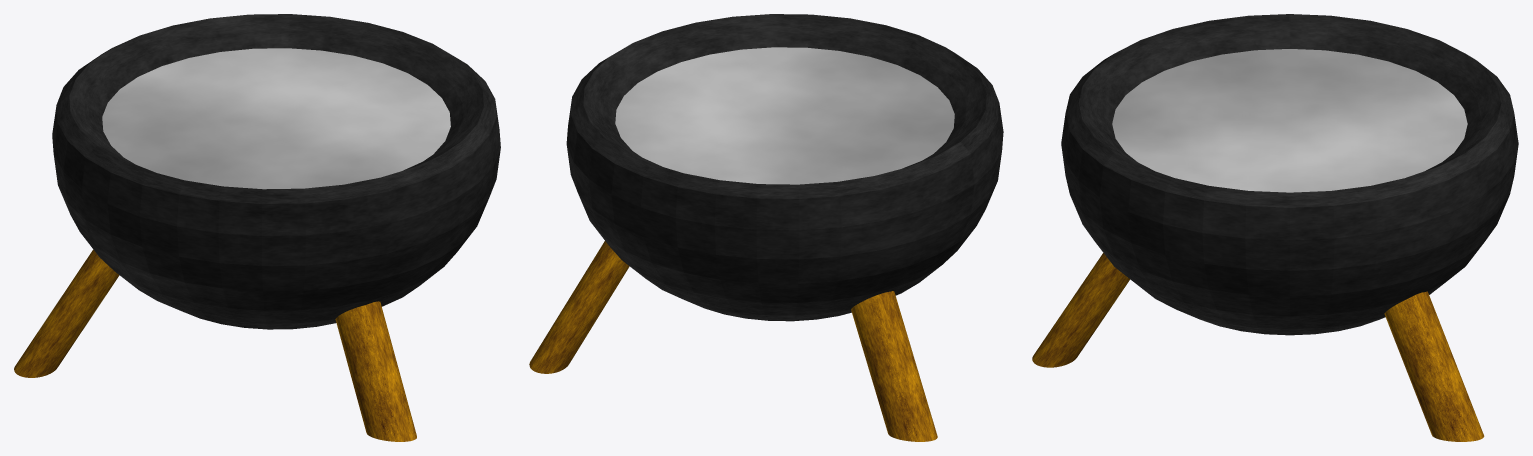
Rendered from BaseCauldronFBX.fbx.
3 renders of one model, left to right at view 1: azimuth 30°, elevation 25°; view 2: azimuth 150°, elevation 25°; view 3: azimuth 270°, elevation 25°, orthographic. The views are drawn at different scales.
Parts seen in each view (by area): view 1: Cauldron, Liquid, Leg2, Leg1; view 2: Cauldron, Liquid, Leg1, Leg3; view 3: Cauldron, Liquid, Leg3, Leg2.
Part boxes in pixels (bbox=[...]): Cauldron: bbox=[52, 14, 500, 329]; Liquid: bbox=[102, 48, 450, 189]; Leg2: bbox=[335, 301, 416, 441]; Leg1: bbox=[14, 249, 119, 377]; Cauldron: bbox=[566, 14, 1003, 321]; Liquid: bbox=[615, 47, 954, 184]; Leg1: bbox=[851, 291, 937, 441]; Leg3: bbox=[529, 241, 629, 373]; Cauldron: bbox=[1061, 14, 1518, 335]; Liquid: bbox=[1112, 49, 1467, 192]; Leg3: bbox=[1384, 291, 1484, 441]; Leg2: bbox=[1032, 253, 1129, 367].
Size of the model in its own units: 413 by 257 by 425.
Materials: 3 (3 with a texture image).
